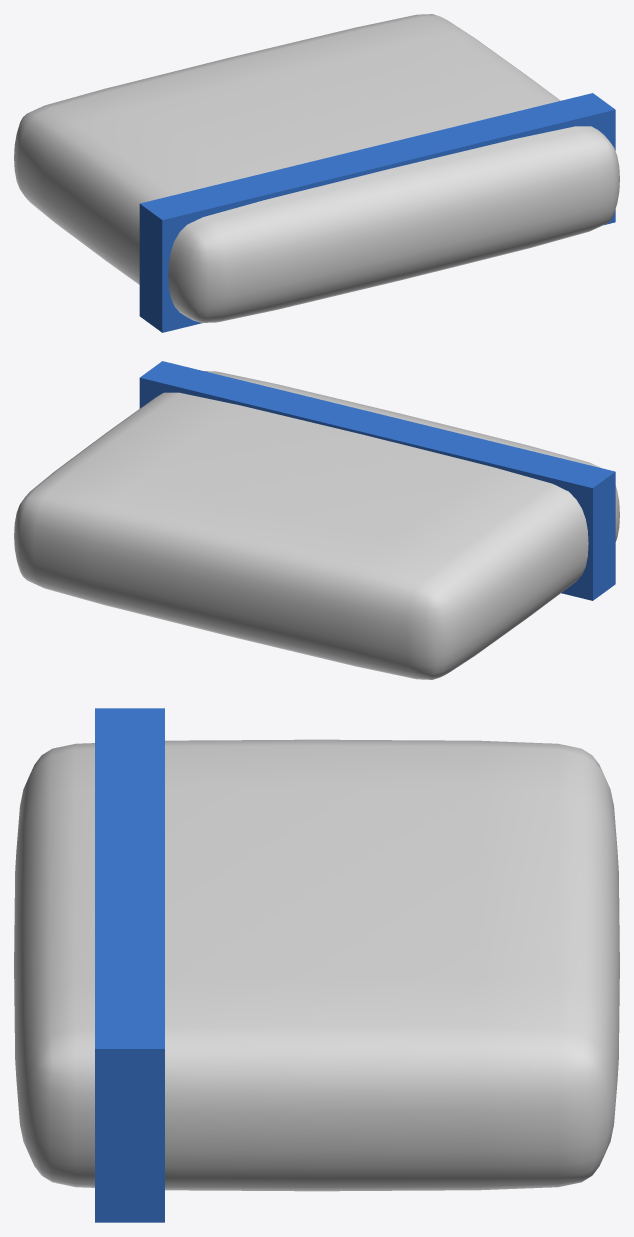
Rendered from towel.glb.
3 views of the same model, one above another, from view 1: azimuth 30°, elevation 25°; view 2: azimuth 150°, elevation 25°; view 3: azimuth 270°, elevation 25° (orthographic). The views are drawn at different scales.
Visible parts, largest first — view 1: towel_body; view 2: towel_body; view 3: towel_body.
Boxes of the visible parts, bbox=[...] form: towel_body: bbox=[14, 14, 619, 332]; towel_body: bbox=[14, 361, 619, 679]; towel_body: bbox=[14, 708, 619, 1222].
Size of the model in its own units: 0.345 by 0.082 by 0.2593.
